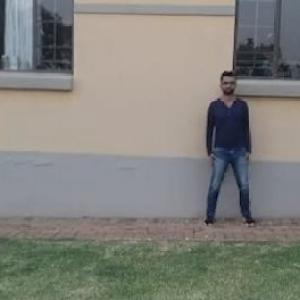follow: (208, 67, 254, 226)
